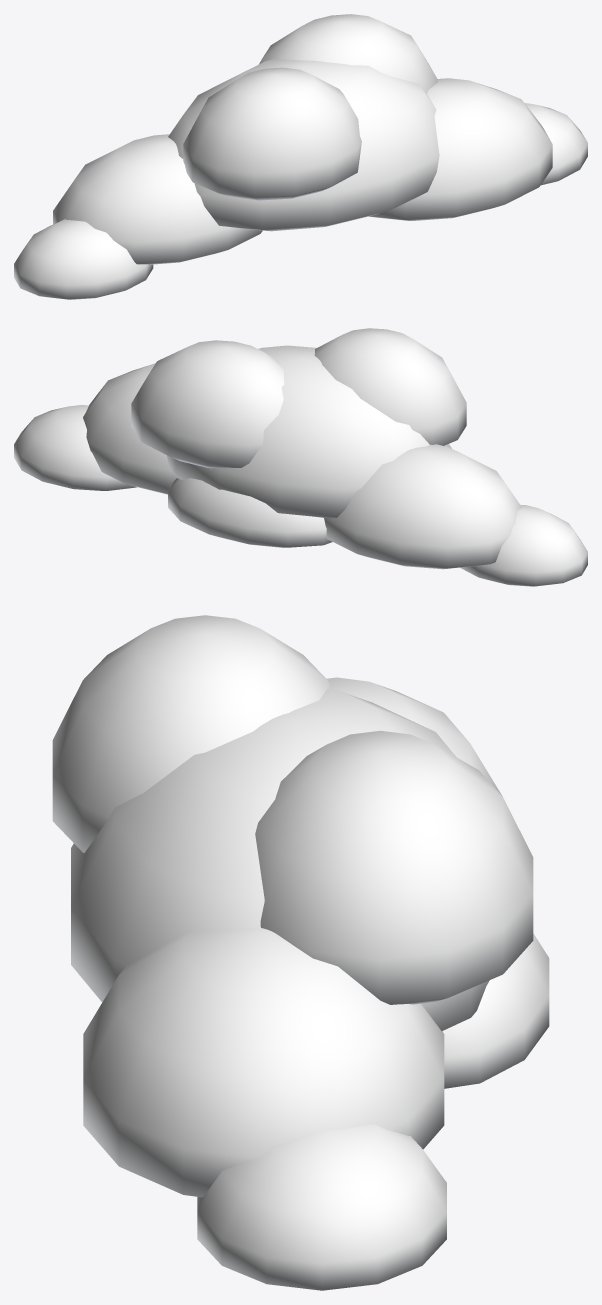
File: Kit_Cloud.fbx
3 views of the same model, one above another, from view 1: azimuth 30°, elevation 25°; view 2: azimuth 150°, elevation 25°; view 3: azimuth 270°, elevation 25° (orthographic). The views are drawn at different scales.
Visible parts, largest first — view 1: Kit_Cloud; view 2: Kit_Cloud; view 3: Kit_Cloud.
Boxes of the visible parts, x1,y1,x2,y2 form: Kit_Cloud: [14, 14, 587, 299]; Kit_Cloud: [14, 328, 587, 586]; Kit_Cloud: [52, 615, 549, 1290].
Bounding box in the file's own units: 87.47 × 27.1 × 34.01.
Materials: 1 (1 with a texture image).
